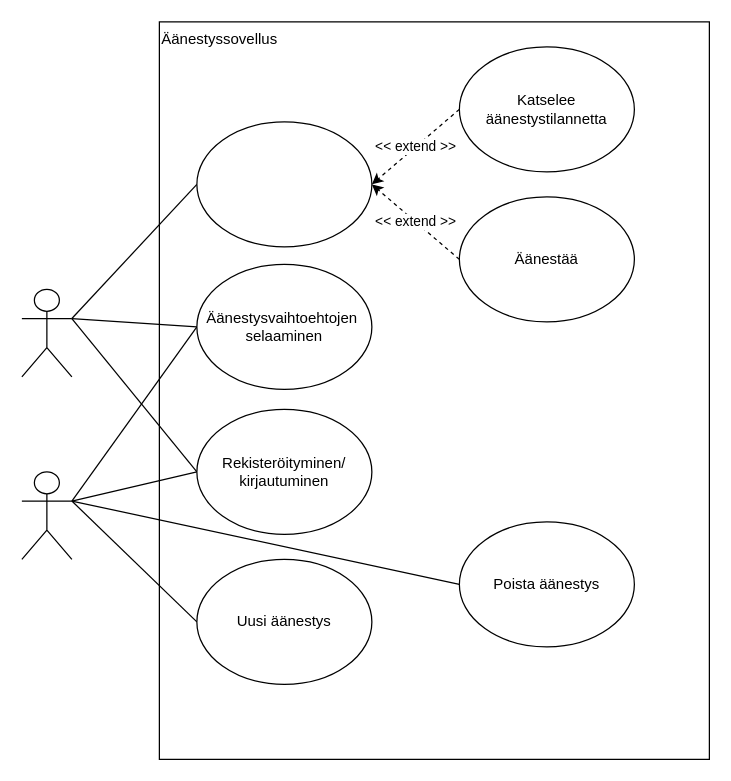
Image size: 731x781. Some labels were removed from this diagram. Each missing label, with the centre of its shape:
"admin" goes at pixel 46 515.
"user" goes at pixel 46 332.
"Äänestysvaihtoehdon valinta" goes at pixel 284 184.
